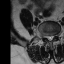CCS_normal: (49, 33, 51, 42)
LFS_stenosis: (53, 32, 56, 38)
LLS_normal: (51, 33, 53, 41)
RFS_stenosis: (44, 33, 46, 39)
RLS_normal: (46, 33, 49, 41)
